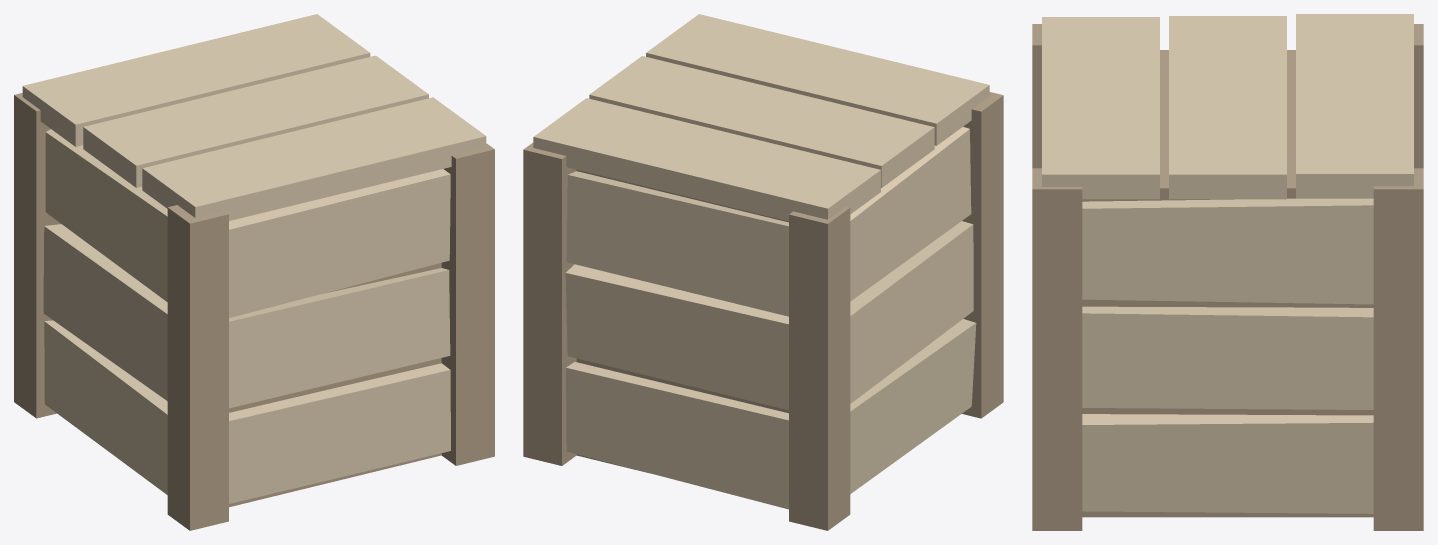
The model's file is building.crate.glb.
The picture shows the model from 3 angles, left to right: view 1: azimuth 30°, elevation 25°; view 2: azimuth 150°, elevation 25°; view 3: azimuth 270°, elevation 25°; orthographic projection. The views are drawn at different scales.
Parts seen in each view (by area): view 1: Paint, PaintDark; view 2: Paint, PaintDark; view 3: Paint, PaintDark.
Boxes of the visible parts, x1,y1,x2,y2 form: Paint: (22,14,486,503); PaintDark: (14,93,494,530); Paint: (533,14,989,509); PaintDark: (523,92,1003,530); Paint: (1042,14,1413,513); PaintDark: (1032,24,1423,530).
Size of the model in its own units: 0.431 by 0.43 by 0.431.
